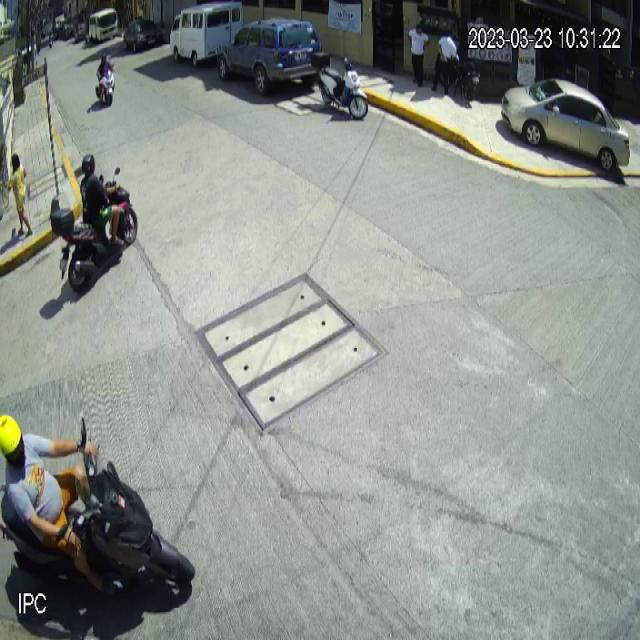Car: (500, 76, 631, 174), (217, 15, 321, 96)
Motorcycle: (0, 416, 195, 596), (50, 164, 139, 294), (310, 50, 369, 121)
Van: (170, 1, 243, 68)
